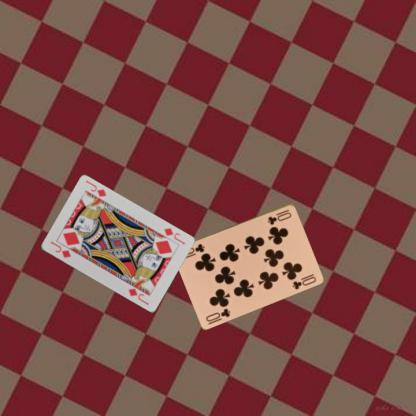10c: (265, 207, 292, 226), (203, 306, 232, 322)
Jd: (47, 238, 72, 260), (161, 225, 186, 246)
